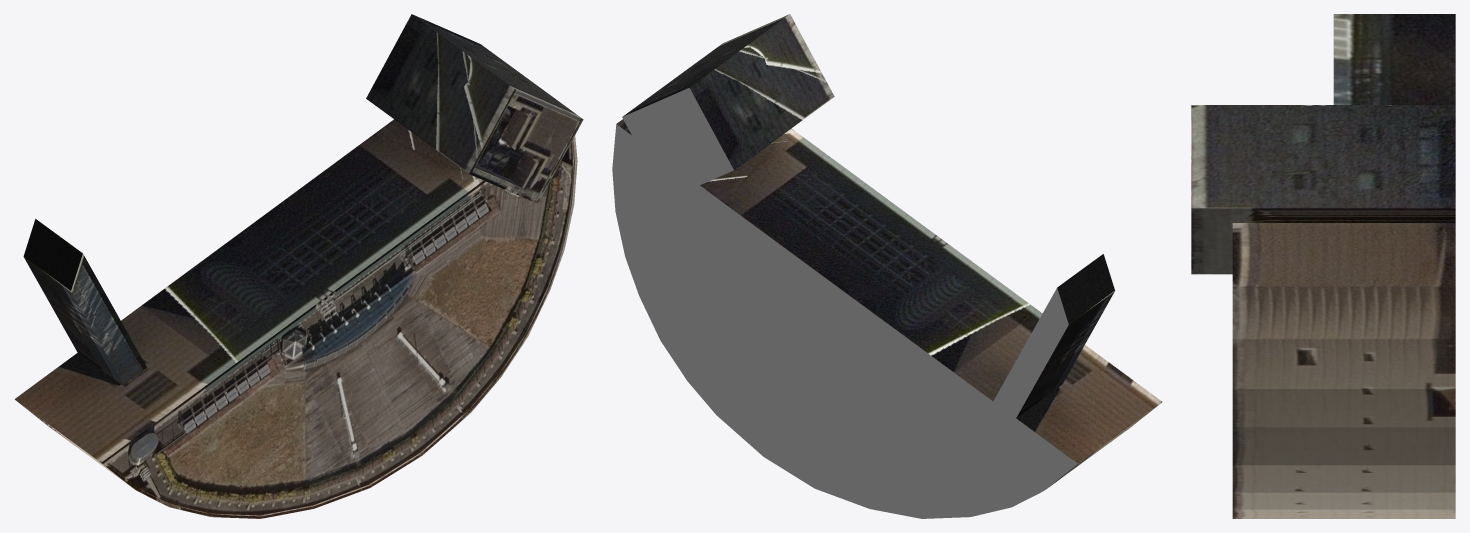
File: 53394515_bldg_6677.obj
3 views of the same model, side by side, from view 1: azimuth 30°, elevation 25°; view 2: azimuth 150°, elevation 25°; view 3: azimuth 270°, elevation 25° (orthographic). The views are drawn at different scales.
Bounding box in the file's own units: 58.82 × 45.57 × 22.02.
1 material, 1 textured.
